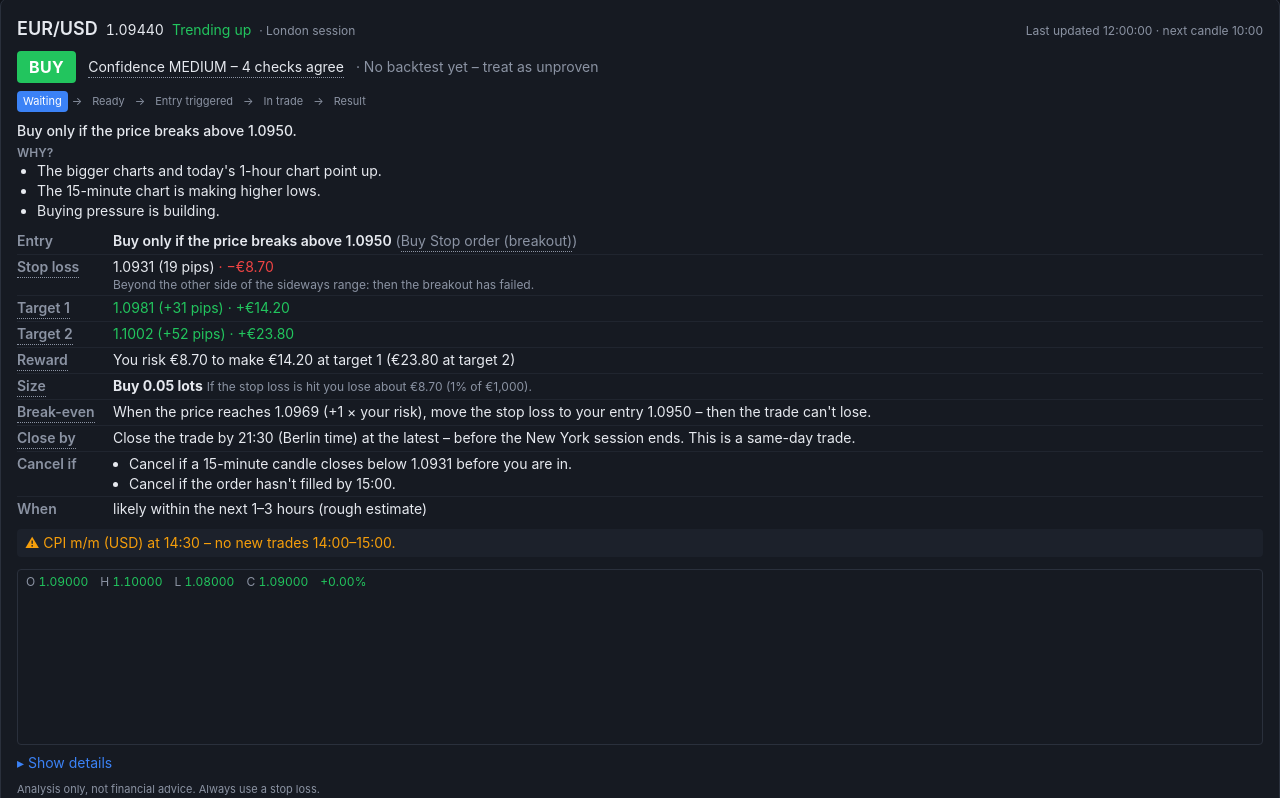
it: PlanCard › main view has no indicator jargon; it appears only behind Show details
The image size is (1280, 798).
Step 1. Click the button "▸ Show details" → (65, 762), box top-left (17, 752), bottom-right (112, 772)
(page scrolled)
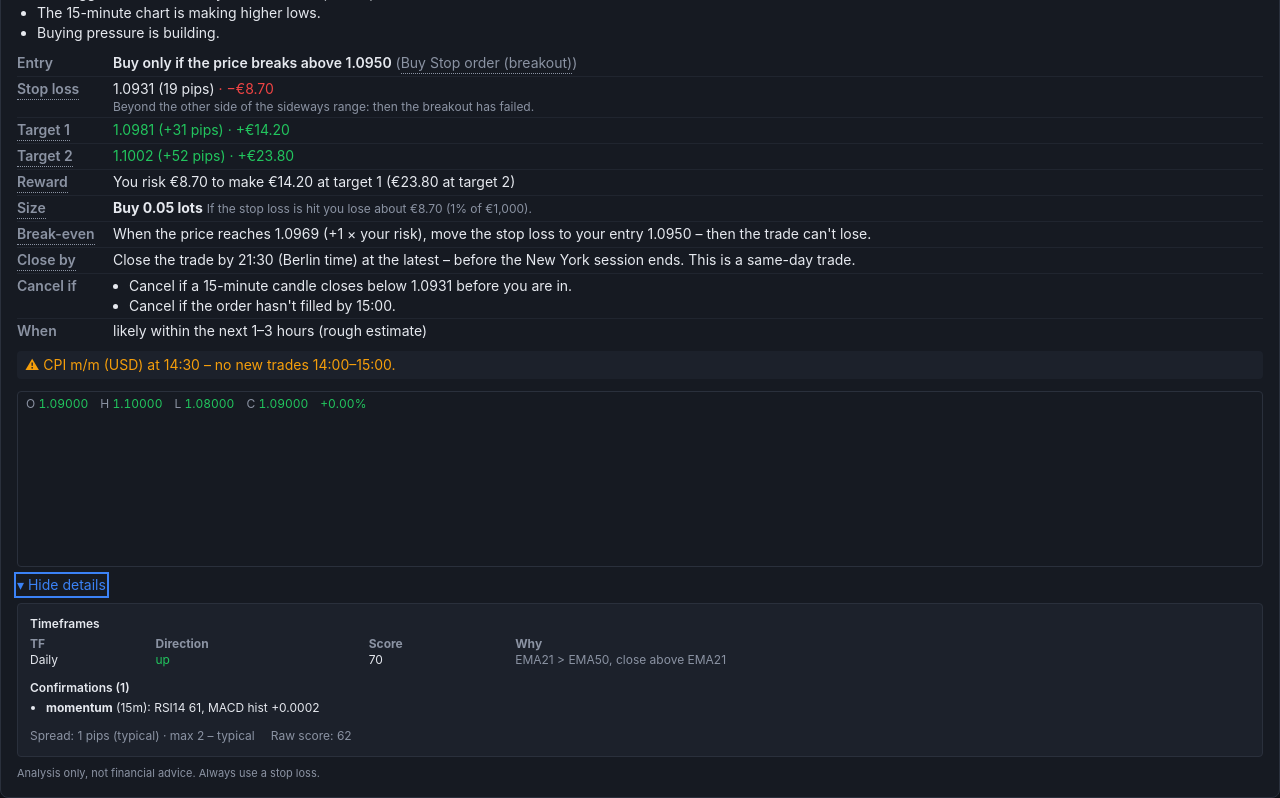
Now the element with test id "plan-details" shows "RSI14 61", box top-left (154, 700), bottom-right (320, 714)
